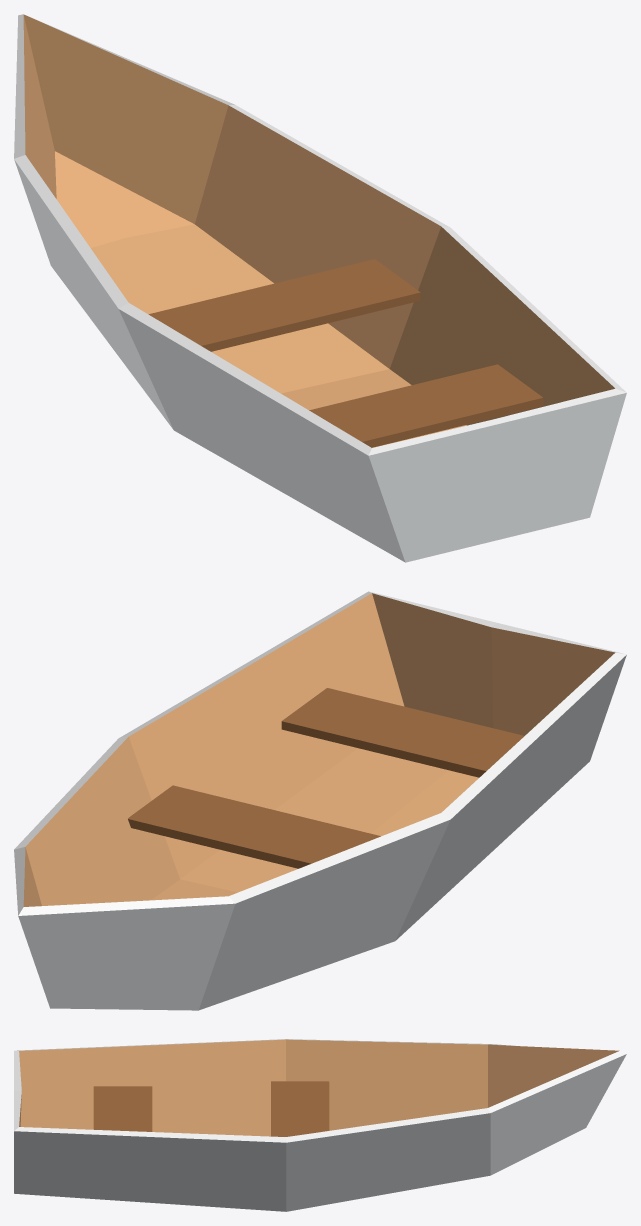
Rendered from Panga(bote).glb.
The picture shows the model from 3 angles, top to bottom: view 1: azimuth 30°, elevation 25°; view 2: azimuth 150°, elevation 25°; view 3: azimuth 270°, elevation 25°; orthographic projection. The views are drawn at different scales.
Parts seen in each view (by area): view 1: Bote_Panga; view 2: Bote_Panga; view 3: Bote_Panga.
Boxes of the visible parts, x1,y1,x2,y2 form: Bote_Panga: (14,14,626,562); Bote_Panga: (14,591,626,1010); Bote_Panga: (14,1039,626,1211).
Bounding box in the file's own units: 1.26 × 0.7179 × 3.15.
